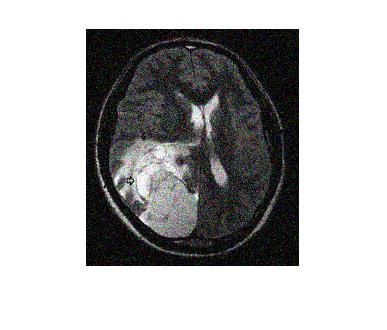Brain_Cancer: (133, 157, 198, 235)
